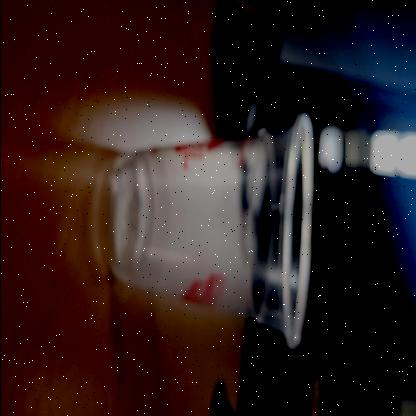Others: (92, 110, 314, 354)
